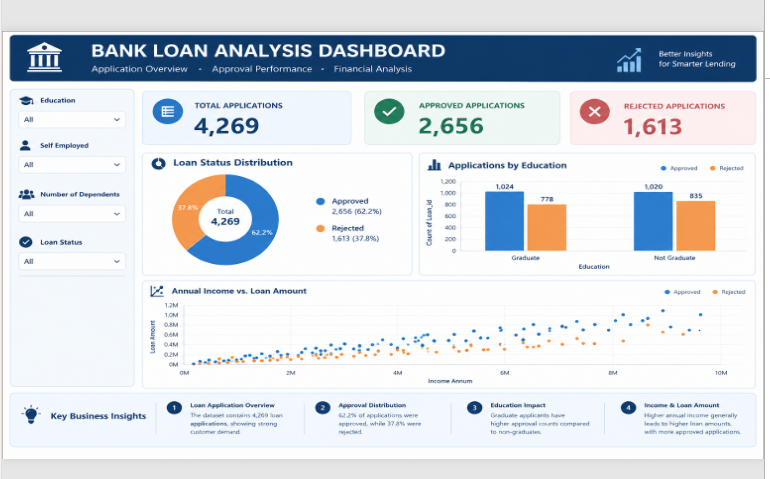

The dashboard page shown, as its layout file describes it:
{"tool":"powerbi","page":{"name":"Page 2","canvas":[1920,1080],"ordinal":0},"visuals":[{"type":"cardVisual","fields":{"Data":["banking_application banking.Test Approved"]},"box":[0,380,614,330],"z":0},{"type":"cardVisual","fields":{"Data":["banking_application banking.Test Rejected"]},"box":[0,710,614,354],"z":1000},{"type":"cardVisual","fields":{"Data":["banking_application banking.Total Applications"]},"box":[10,0,614,380],"z":2000},{"type":"clusteredColumnChart","title":"Loans by Education","fields":{"Category":["banking_application banking.education"],"Series":["banking_application banking.loan_status"],"Y":["Sum(banking_application banking.loan_id)"]},"box":[624,482,742,482],"z":3000},{"type":"pieChart","title":"Loan status Distribution","fields":{"Category":["banking_application banking.loan_status"],"Y":["Sum(banking_application banking.loan_id)"]},"box":[624,0,742,482],"z":4000}]}

Visuals, with their boxes on the page's 1920x1080 design canvas (x1, y1, x2, y2). These are canvas units, not pixel positions in the 770x479 screenshot, which may show the page scaled, cropped or inside an application window:
cardVisual - banking_application banking.Test Approved: (0,380,614,710)
cardVisual - banking_application banking.Test Rejected: (0,710,614,1064)
cardVisual - banking_application banking.Total Applications: (10,0,624,380)
"Loans by Education" clusteredColumnChart: (624,482,1366,964)
"Loan status Distribution" pieChart: (624,0,1366,482)
